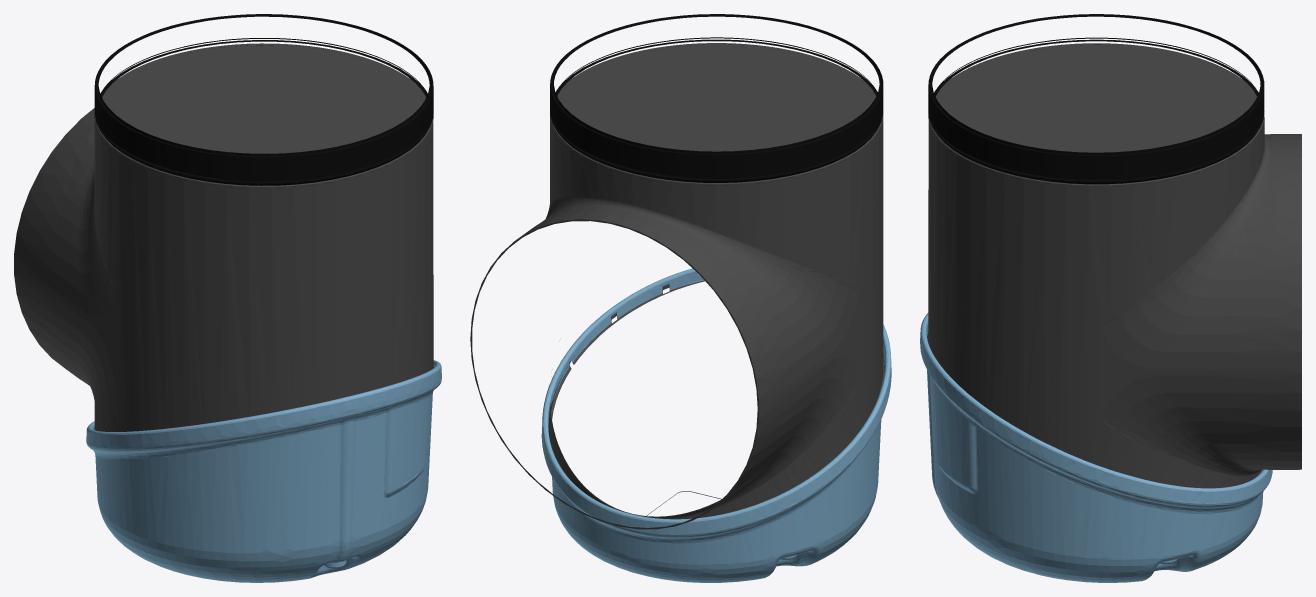
Rendered from Cell01__Robots__R02_RailSystem__R02__Geometry__rail_base__rail_carriage__r02_shoulder_link__r02_upper_arm_link__r02_forearm_link__r02_wrist_1_link__r02_wrist_2_link.glb.
3 views of the same model, side by side, from view 1: azimuth 30°, elevation 25°; view 2: azimuth 150°, elevation 25°; view 3: azimuth 270°, elevation 25° (orthographic).
Visible parts, largest first — view 1: /World/Cell01/Robots/R02_RailSystem/R02/Geometry/rail_base/r (×3); view 2: /World/Cell01/Robots/R02_RailSystem/R02/Geometry/rail_base/r (×3); view 3: /World/Cell01/Robots/R02_RailSystem/R02/Geometry/rail_base/r (×3).
Part boxes in pixels (x1,y1,x2,y2): /World/Cell01/Robots/R02_RailSystem/R02/Geometry/rail_base/r (×3): [14, 14, 441, 582]; /World/Cell01/Robots/R02_RailSystem/R02/Geometry/rail_base/r (×3): [470, 14, 891, 582]; /World/Cell01/Robots/R02_RailSystem/R02/Geometry/rail_base/r (×3): [920, 14, 1301, 582].
Size of the model in its own units: 0.0787 by 0.1099 by 0.0852.
